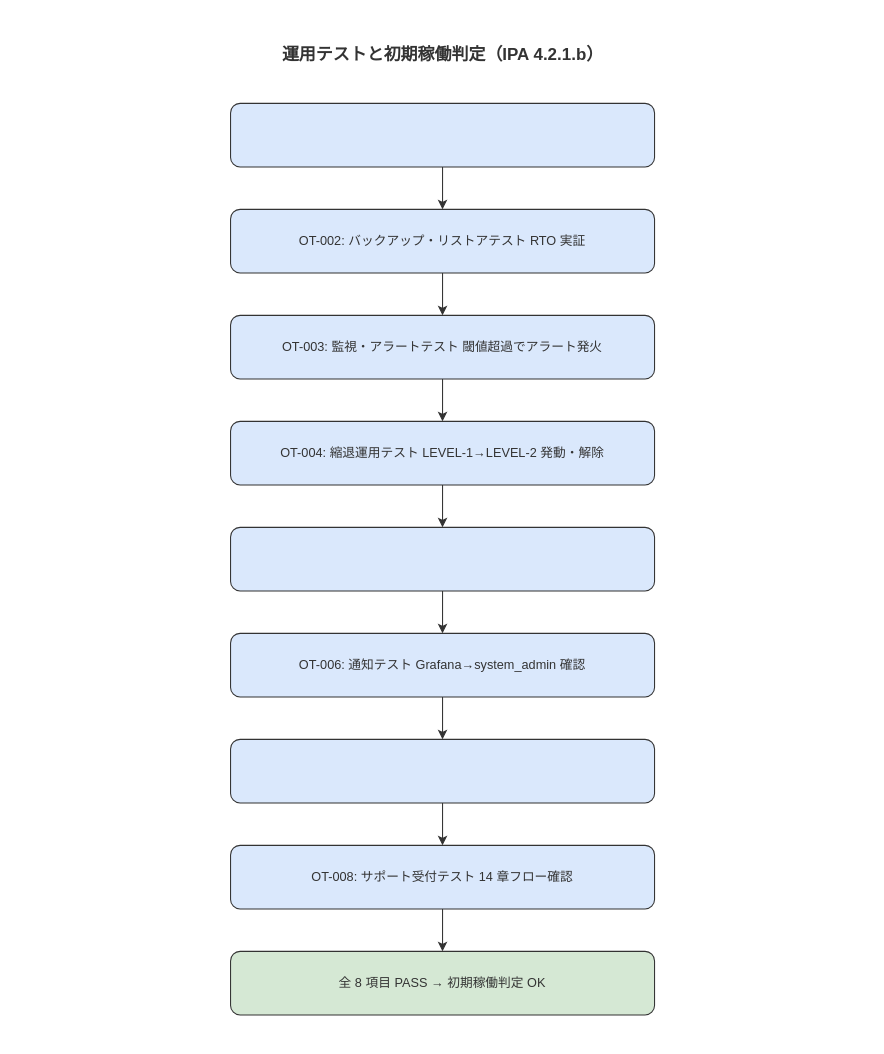
Image size: 884x1054. Some labels were removed from this diagram. The shapes that lost their labels are listed below. From the top down, each one's box as (x1, y1, x2, y2) in pixels, then its label:
(229, 102, 655, 167): OT-001: 健全性確認テスト 全コンテナ起動/API 200 OK
(229, 526, 655, 591): OT-005: フェイルオーバーテスト OPS-PROC-010 初回実証
(229, 738, 655, 803): OT-007: 手順実証テスト OPS-PROC-001〜005 実施
